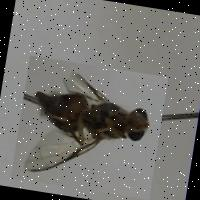Oriental-fruit-fly: (9, 54, 168, 198)
